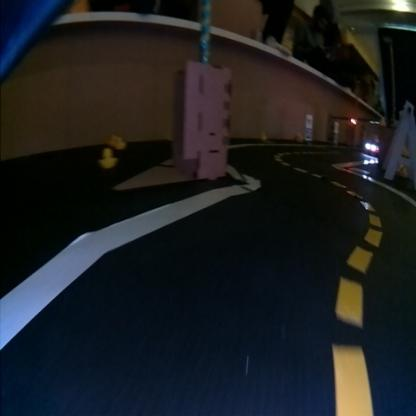Duckie: (101, 147, 116, 168), (115, 135, 126, 148), (262, 131, 268, 139)
